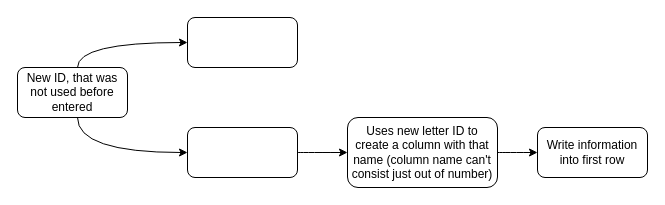
Some shapes in this 665 by 205 pixel diagram are drawn without their labels. Here are the shapes that lost their labels. From the top down, the box of each, then its label:
(186, 16, 298, 68): Writes information to the list inside Python app
(186, 126, 298, 178): Converts number ID to the letter ID
